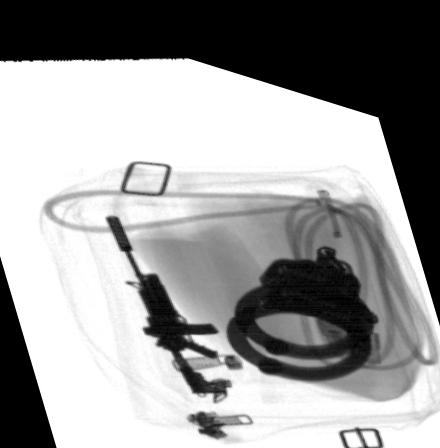Gun: (100, 206, 232, 384)
HandCuffs: (226, 224, 379, 364)
